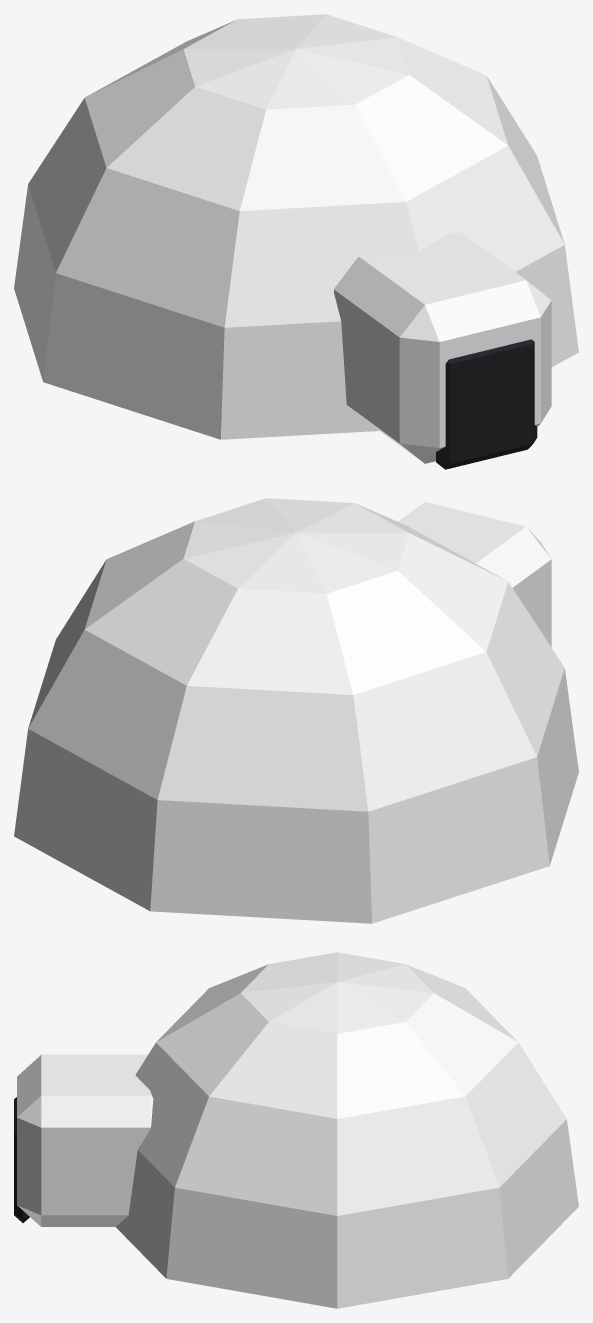
File: Igloo.fbx
3 renders of one model, top to bottom at view 1: azimuth 30°, elevation 25°; view 2: azimuth 150°, elevation 25°; view 3: azimuth 270°, elevation 25°, orthographic. The views are drawn at different scales.
Visible parts, largest first — view 1: Igloo; view 2: Igloo; view 3: Igloo.
Part boxes in pixels (<box>): Igloo: <box>14,14,578,469</box>; Igloo: <box>14,498,578,923</box>; Igloo: <box>14,952,578,1308</box>.
Bounding box in the file's own units: 8 × 4.1 × 9.35.
1 material, 1 textured.
